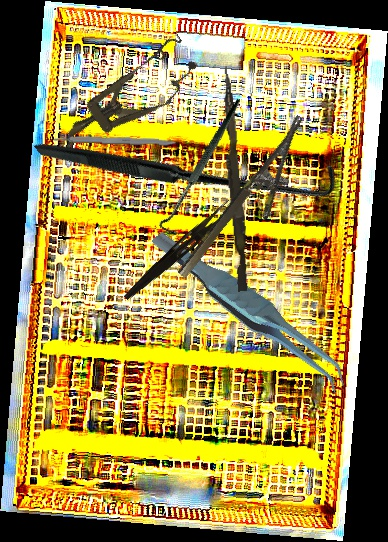Dressing Forceps: (122, 195, 236, 306)
Hook Surgical: (33, 7, 344, 320), (124, 97, 283, 241)
Needle Holder: (175, 114, 329, 296)
Pusher: (214, 65, 254, 292)
Scalpel Handle: (52, 133, 180, 147)
Speculum: (52, 30, 208, 160)
Tissue Forceps: (150, 197, 352, 424)
